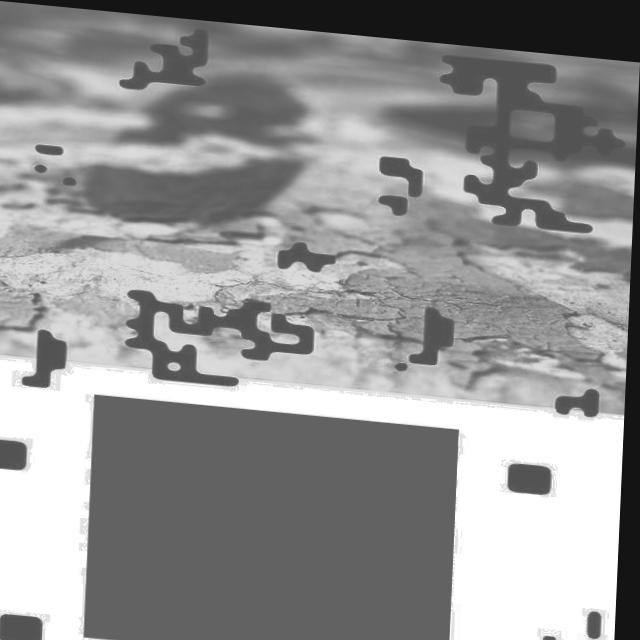qr_code: (89, 391, 463, 640)
